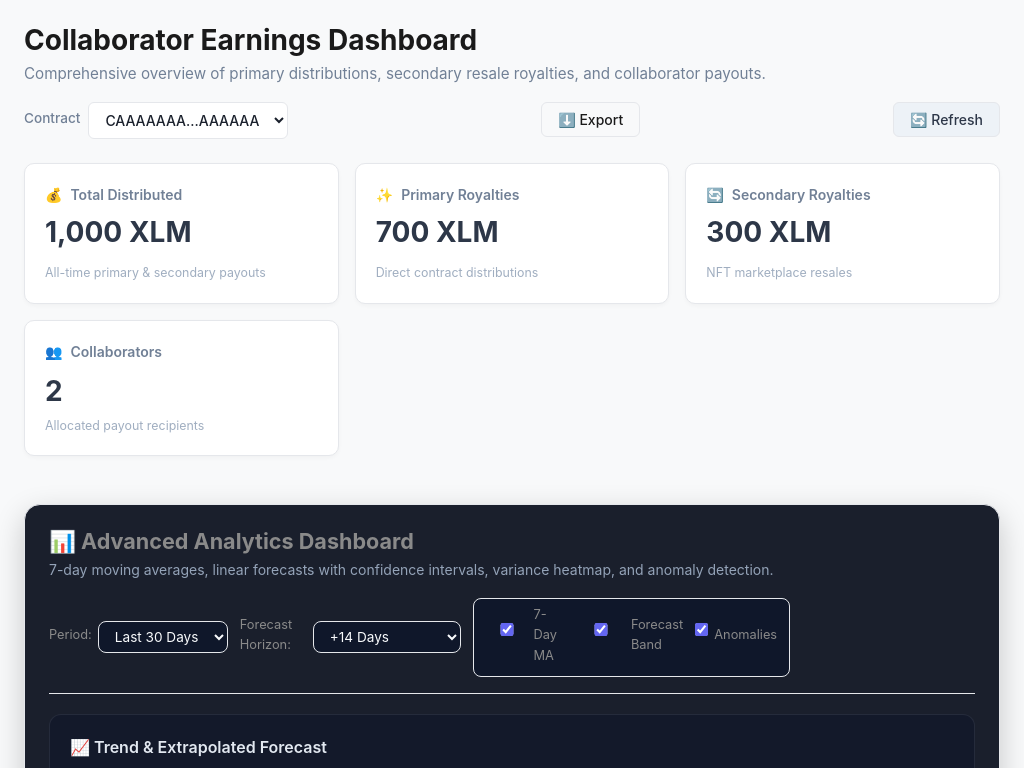
it: EarningsDashboard Component › dashboard export (#770) › opens the export menu with PDF, CSV, and JSON options
Click the button "⬇️ Export" at (591, 119), box x1=541 y1=102 x2=640 y2=137
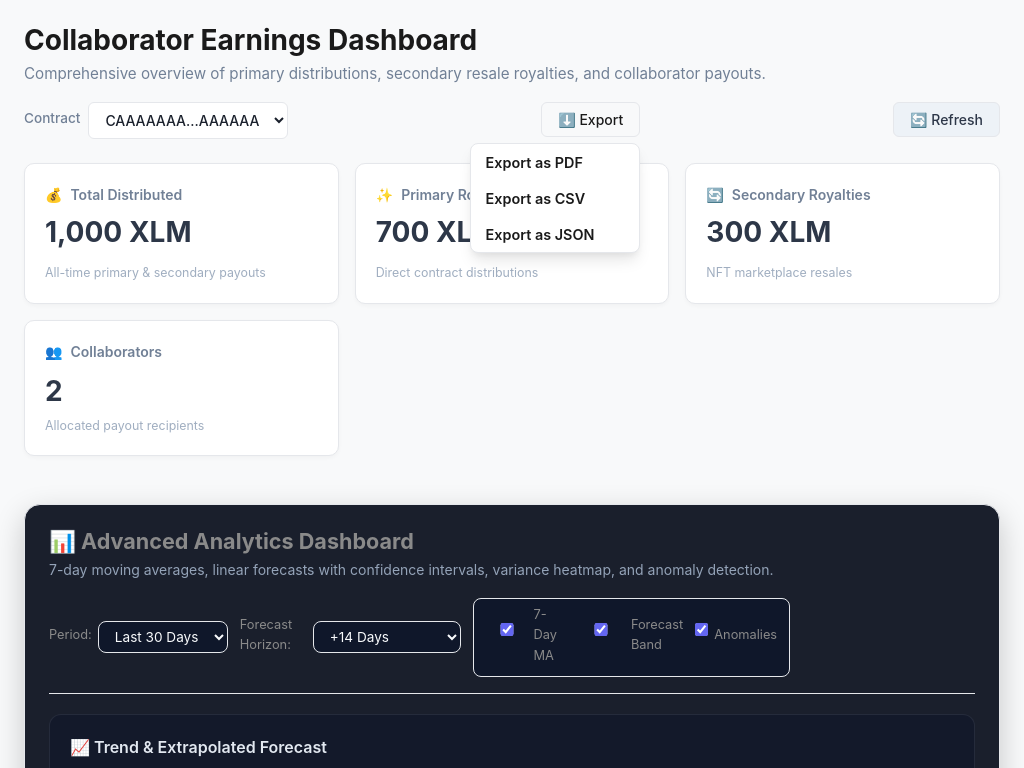
Expected: the menu item "Export as PDF" is shown, x1=471 y1=144 x2=639 y2=180
Expected: the menu item "Export as CSV" is shown, x1=471 y1=180 x2=639 y2=216
Expected: the menu item "Export as JSON" is shown, x1=471 y1=216 x2=639 y2=252
